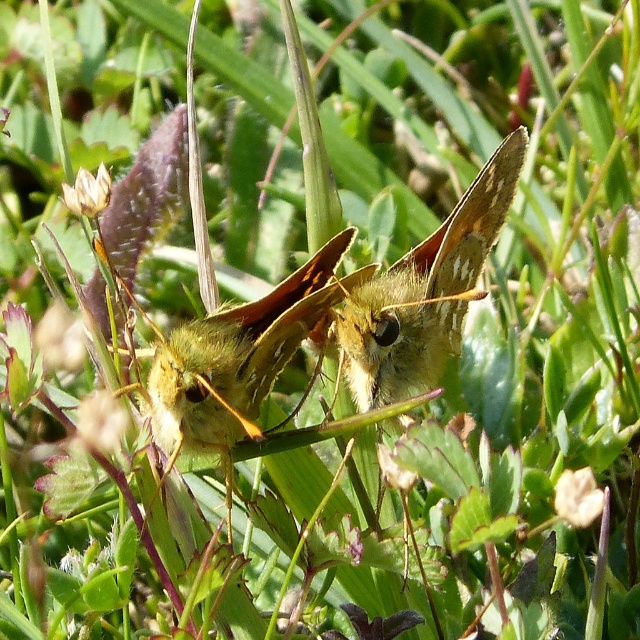Butterfly: (196, 116, 488, 467)
